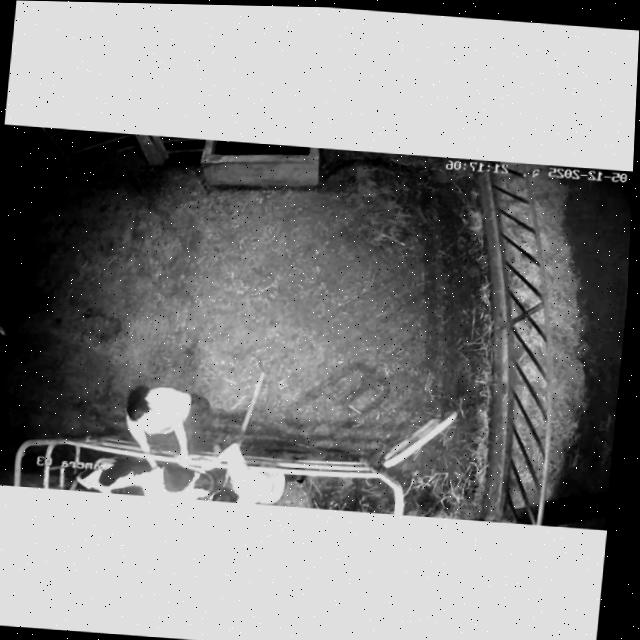stand: (0, 272, 39, 471)
